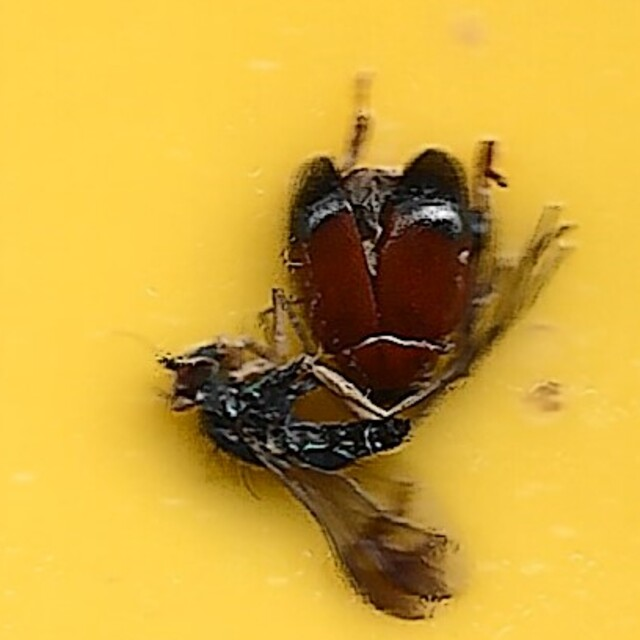Brachycera: (157, 341, 416, 482)
Coleoptera: (285, 158, 483, 413)
